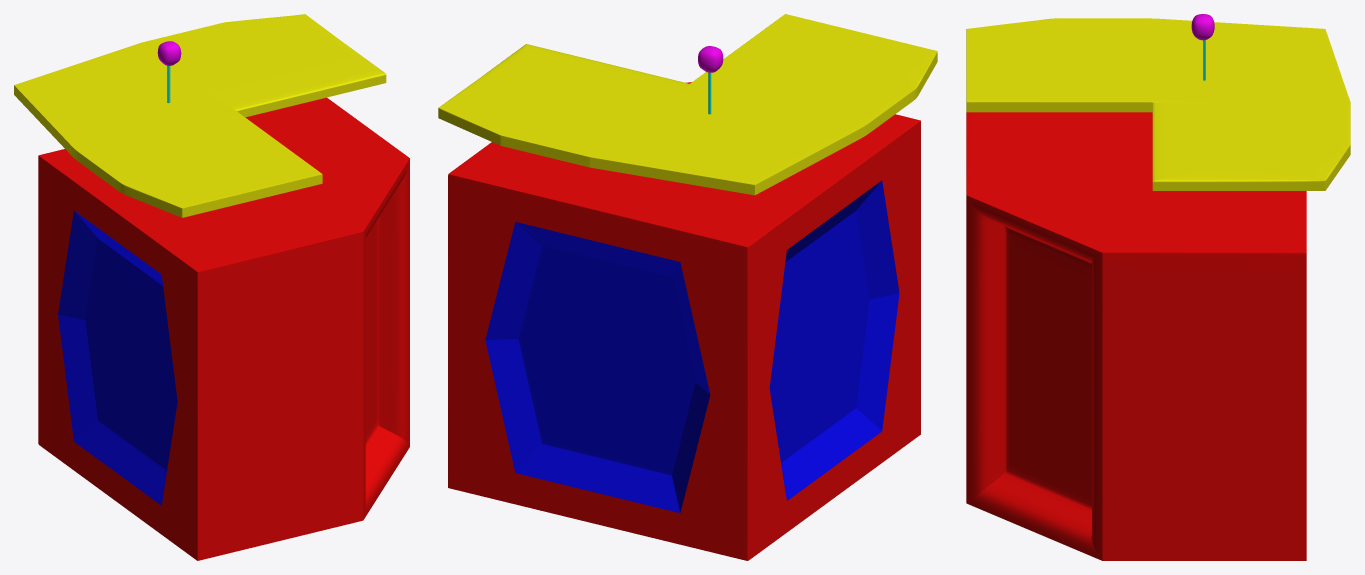
Rendered from Kundentheke_2_ecke_high.fbx.
3 renders of one model, left to right at view 1: azimuth 30°, elevation 25°; view 2: azimuth 150°, elevation 25°; view 3: azimuth 270°, elevation 25°, orthographic. The views are drawn at different scales.
Parts seen in each view (by area): view 1: Kundentheke_2_ecke_high; view 2: Kundentheke_2_ecke_high; view 3: Kundentheke_2_ecke_high.
Boxes of the visible parts, box(x1,y1,x2,y2) form: Kundentheke_2_ecke_high: box(14, 14, 409, 560); Kundentheke_2_ecke_high: box(438, 14, 937, 560); Kundentheke_2_ecke_high: box(966, 14, 1350, 560).
Size of the model in its own units: 1.13 by 1.44 by 1.13.
